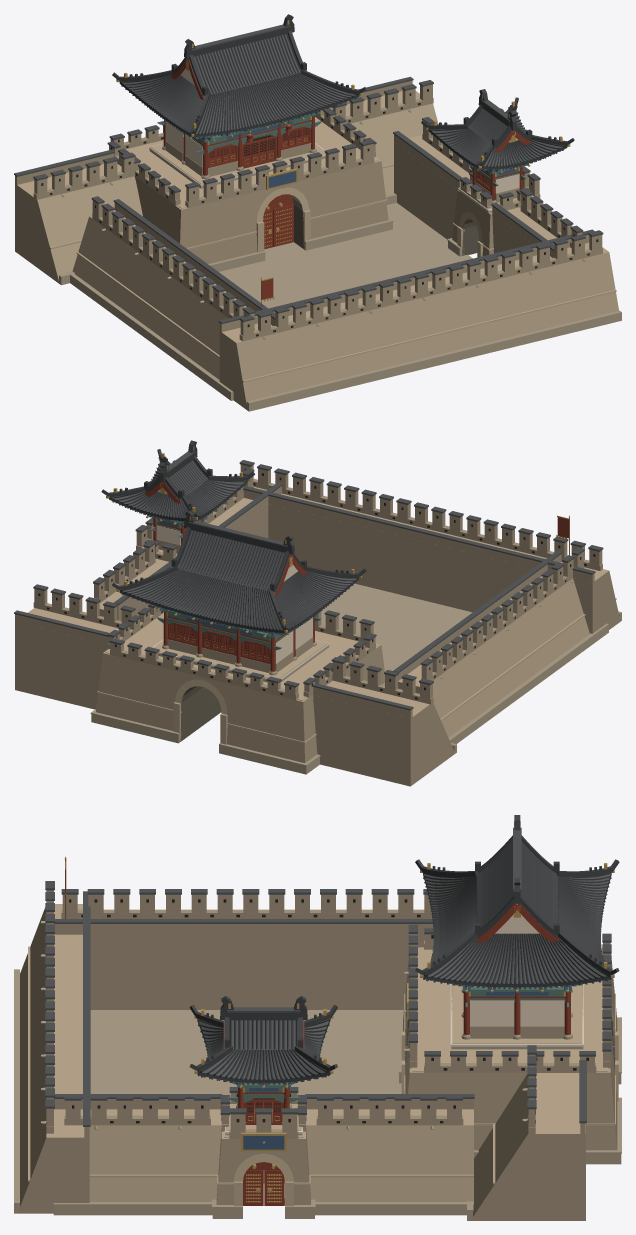
3 renders of one model, top to bottom at view 1: azimuth 30°, elevation 25°; view 2: azimuth 150°, elevation 25°; view 3: azimuth 270°, elevation 25°, orthographic. The views are drawn at different scales.
Parts seen in each view (by area): view 1: K05a; view 2: K05a; view 3: K05a.
Boxes of the visible parts, box(x1,y1,x2,y2) form: K05a: box(14, 14, 621, 411); K05a: box(14, 440, 621, 786); K05a: box(14, 815, 621, 1220).
Bounding box in the file's own units: 50.24 × 23.02 × 50.61.
